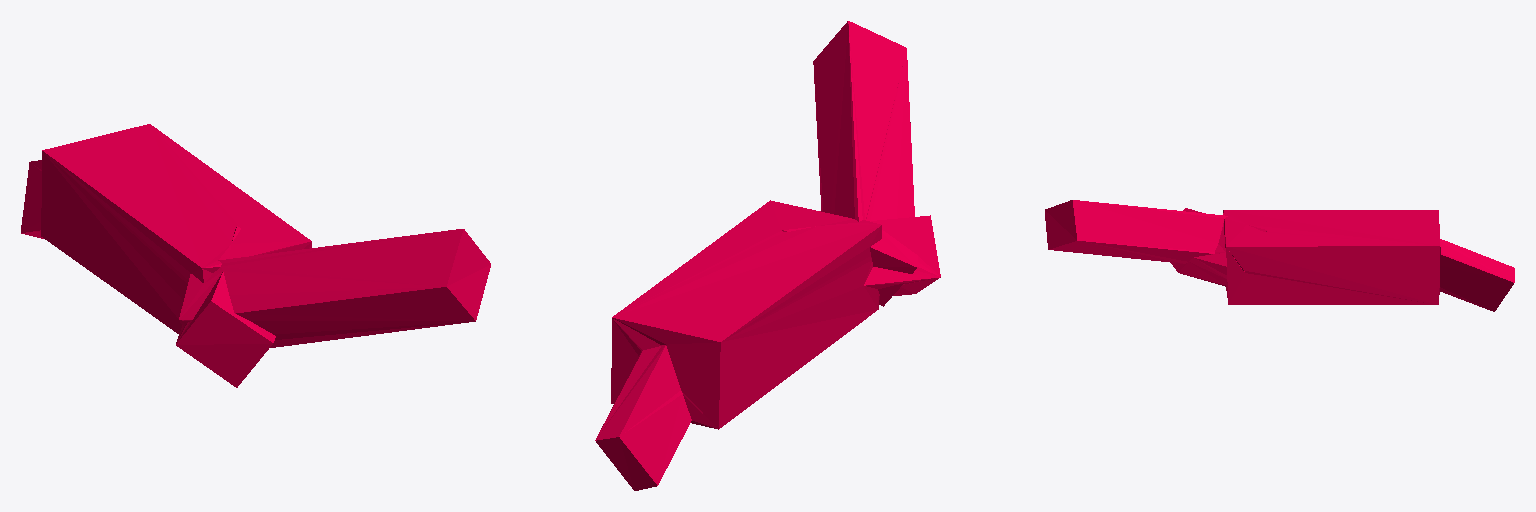
robot.urdf — blob551:

<robot name="blob551">
  <link name="random_obj_551">
    <contact>
      <lateral_friction value="1.0"/>
      <rolling_friction value="0.0"/>
      <inertia_scaling value="3.0"/>
      <contact_cfm value="0.0"/>
      <contact_erp value="1.0"/>
    </contact>
    <inertial>
      <origin rpy="0 0 0" xyz="0 0 0"/>
      <mass value="0.0902"/>
      <inertia ixx="1" ixy="0" ixz="0" iyy="1" iyz="0" izz="0"/>
    </inertial>
    <visual>
      <origin rpy="0 0 0" xyz="0 0 0"/>
      <geometry>
        <mesh filename="551.obj" scale="0.0069 0.0069 0.0069"/>
      </geometry>
      <material name="blockmat">
        <color rgba="0.93 0.01 0.34 1"/>
      </material>
    </visual>
    <collision>
      <origin rpy="0 0 0" xyz="0 0 0"/>
      <geometry>
        <mesh filename="551_coll.obj" scale="0.0069 0.0069 0.0069"/>
      </geometry>
    </collision>
  </link>
</robot>

--- Render facts (derived) ---
Views: 3 orthographic renders of the robot side by side, from view 1: azimuth 30°, elevation 25°; view 2: azimuth 150°, elevation 25°; view 3: azimuth 270°, elevation 25°.
Robot: blob551 — 1 links, 0 joints (none); root link random_obj_551; default pose: all joints at 0.
Visible links, largest first — view 1: random_obj_551; view 2: random_obj_551; view 3: random_obj_551.
Link boxes in pixels (<box>): random_obj_551: <box>21,124,490,387</box>; random_obj_551: <box>595,21,940,490</box>; random_obj_551: <box>1045,200,1514,311</box>.
Bounding box of the posed robot: 0.0665 × 0.1831 × 0.0624 m (x, y, z).
1 mesh visuals loaded from 1 distinct referenced files (1 OBJ).
